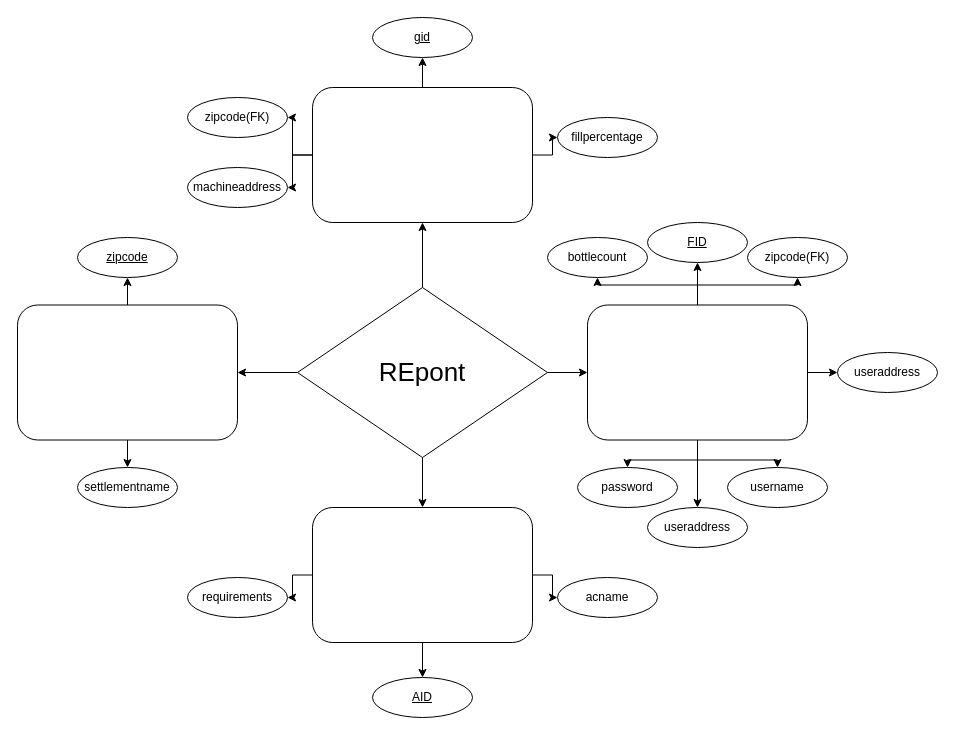
The diagram is 955 pixels wide and 735 high, and some of its shapes have lost their labels. Here are the shapes that lost their labels. From the top down, the box of each, then its label:
(312, 86, 532, 222): Gépek
(16, 304, 238, 440): Települések
(586, 304, 808, 440): Felhasználó
(312, 506, 532, 642): Achivementek
